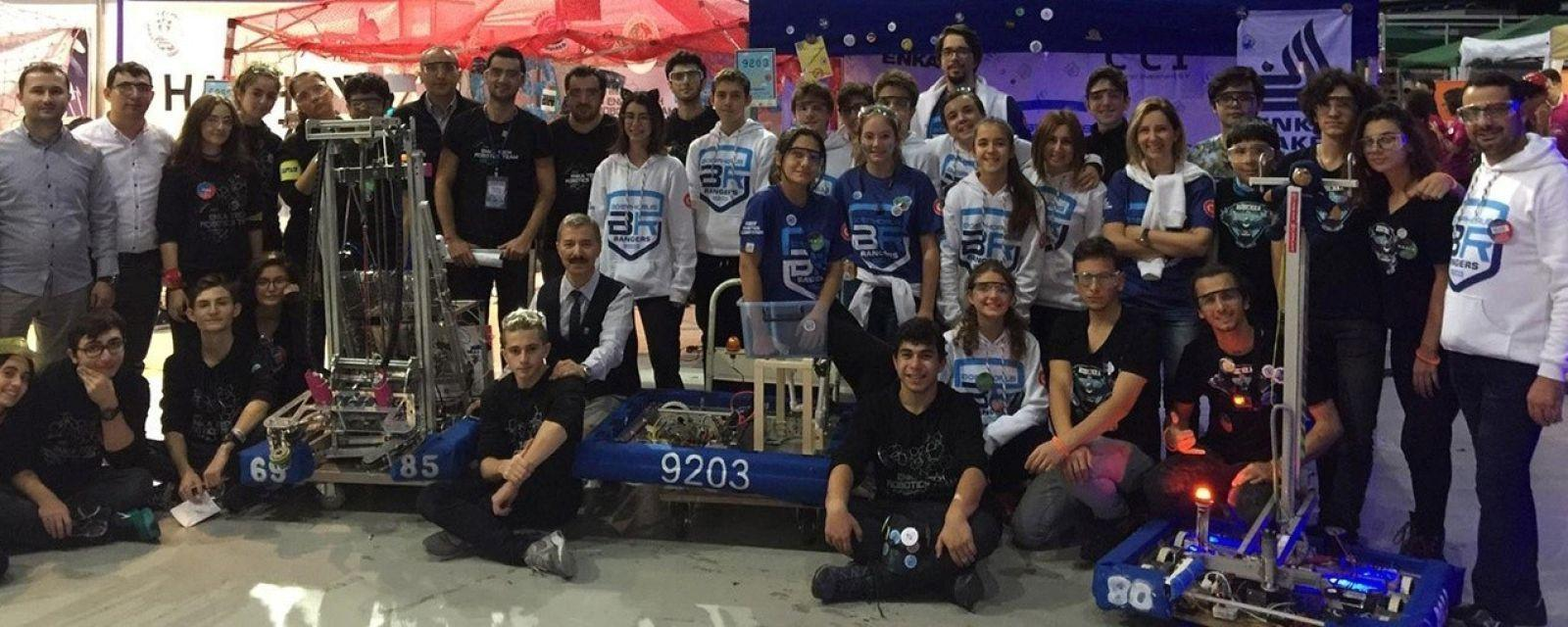robot: (1089, 143, 1471, 627), (232, 102, 503, 495), (565, 365, 871, 512)
